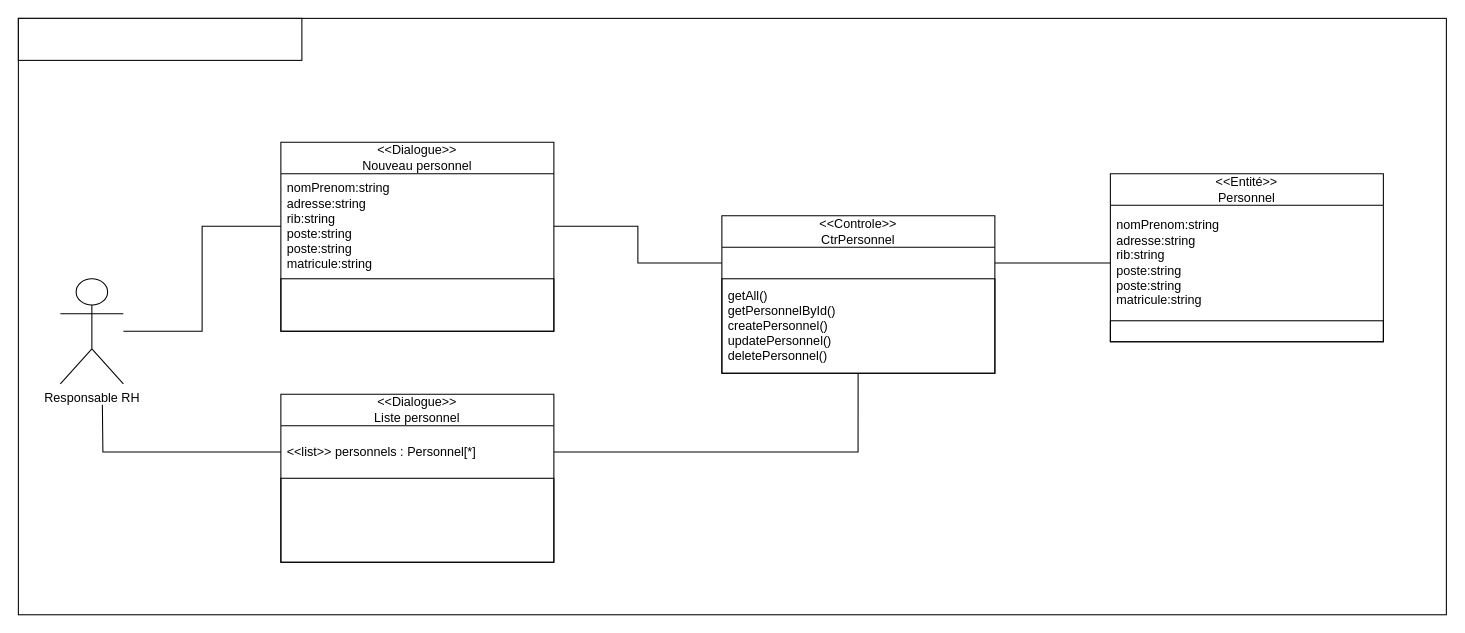
The diagram is 1465 pixels wide and 633 high, and some of its shapes have lost their labels. The shapes that lost their labels are listed below. From the top down, each one's centre as x and y in pixels, then its label:
the point at 159,38: DCP Gérer personnel
the point at 417,304: Item 3
the point at 417,519: getPersonnels() recherchePersonnel() updatePersonnel() deletePersonnel()
